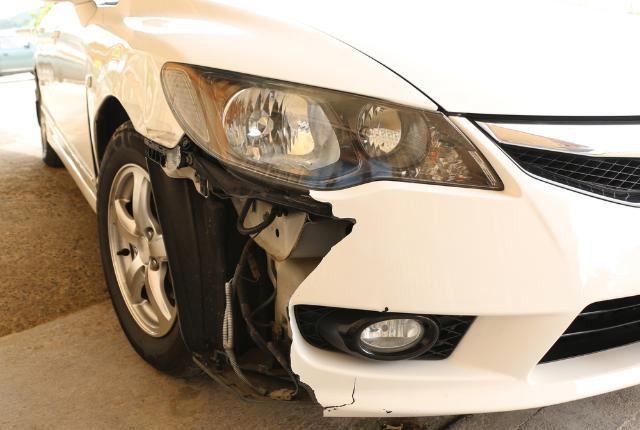crack: (323, 372, 359, 411)
dent: (124, 53, 157, 124)
no part: (143, 136, 358, 416)
